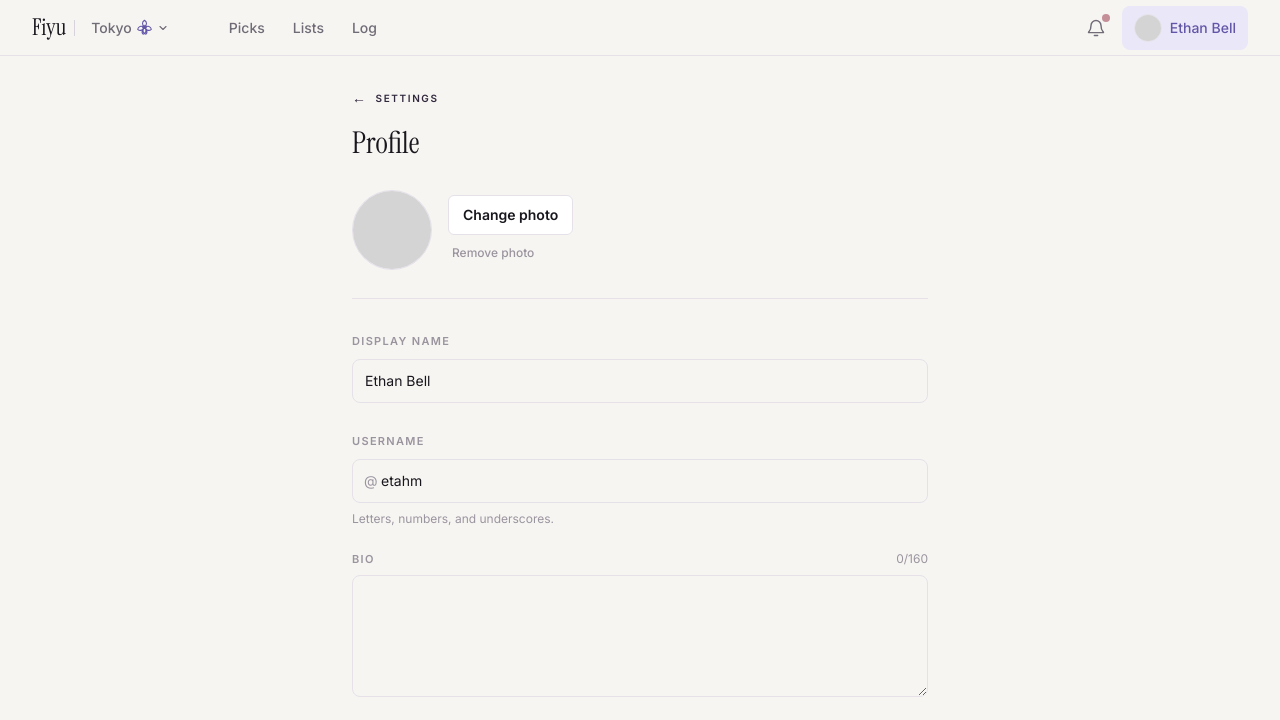
Test: ProfileWorkspace › uses and removes the authenticated server avatar without local photo state
Click the button "Remove photo" at x=493, y=252, box 448,240 -> 538,264
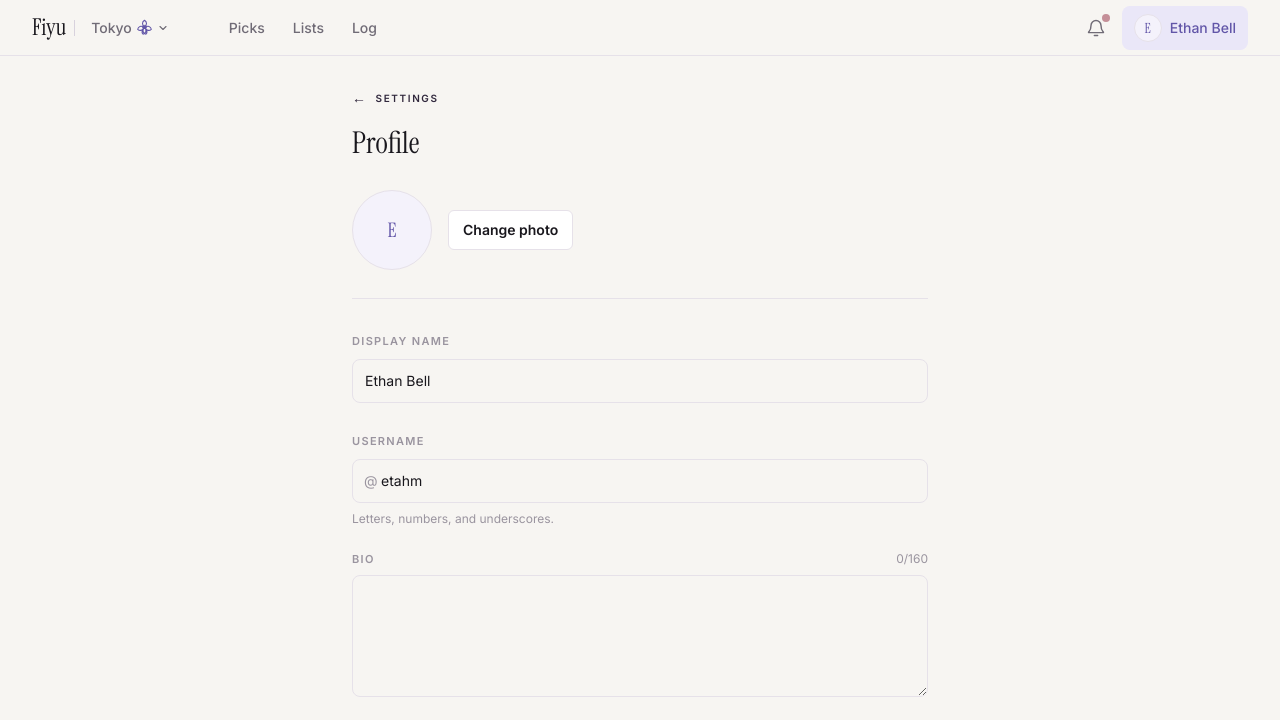
expect the text named "Default profile avatar" reads "E": met, box 388,216 -> 397,242
expect the button "Remove photo" is gone: met
